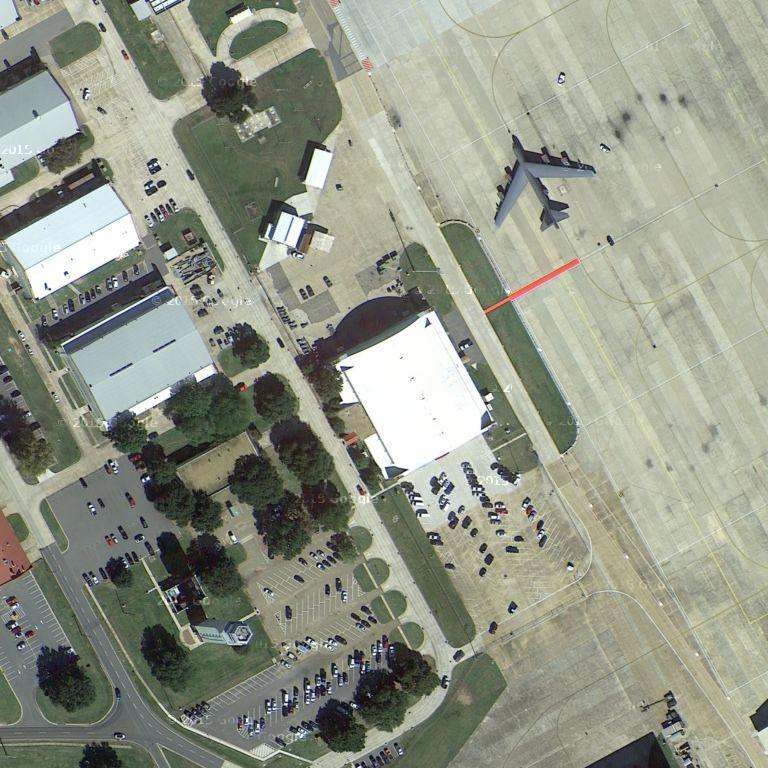B-52: (491, 132, 599, 235)
